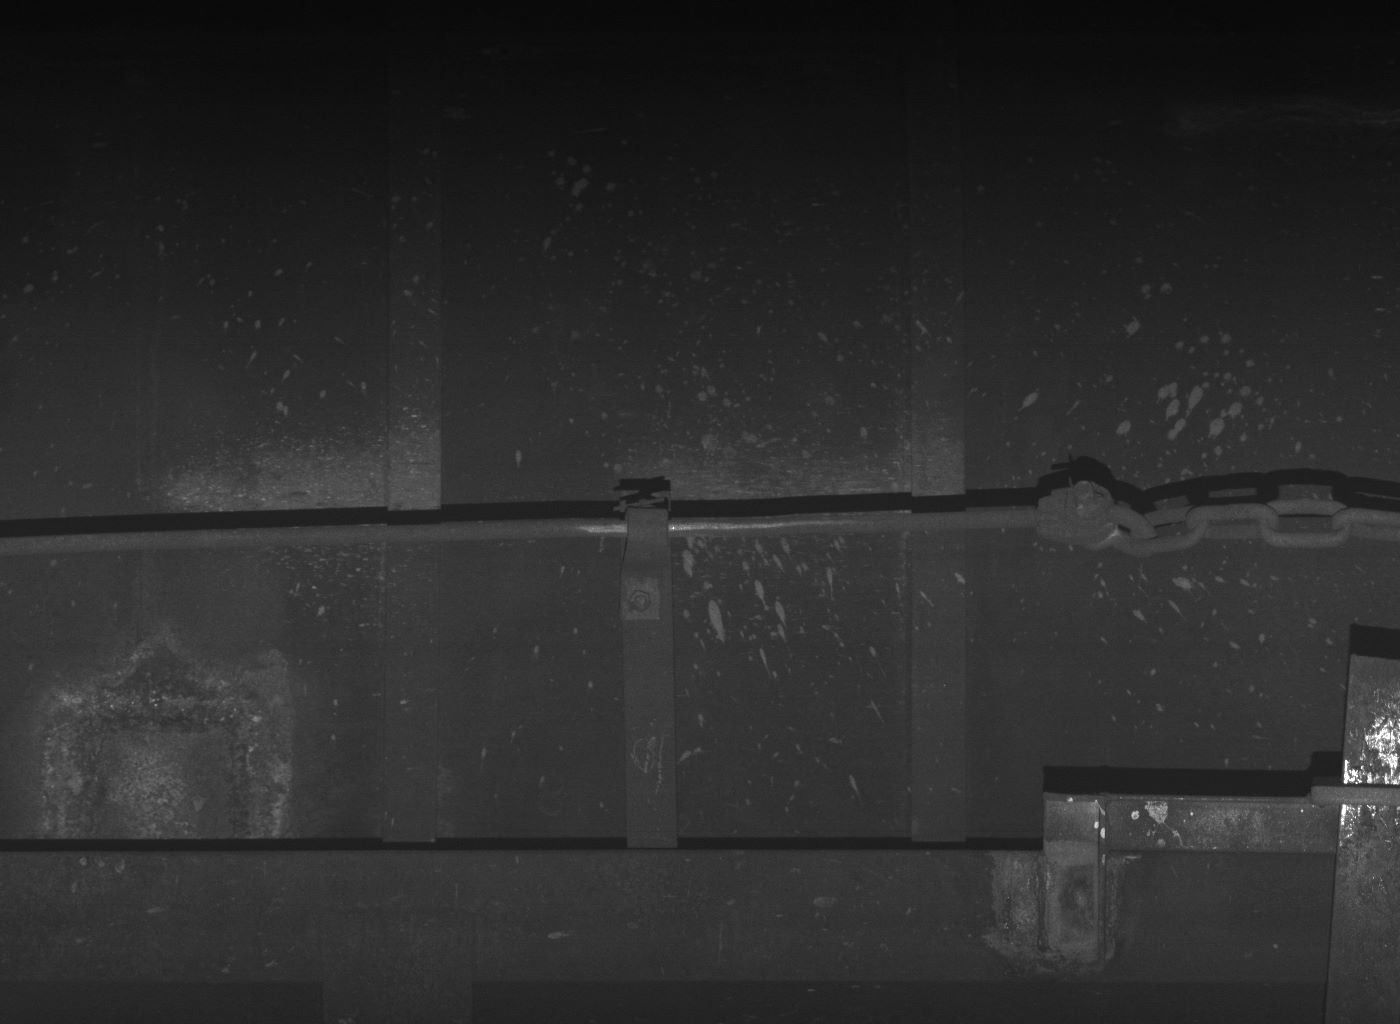normal: (612, 490, 666, 619)
